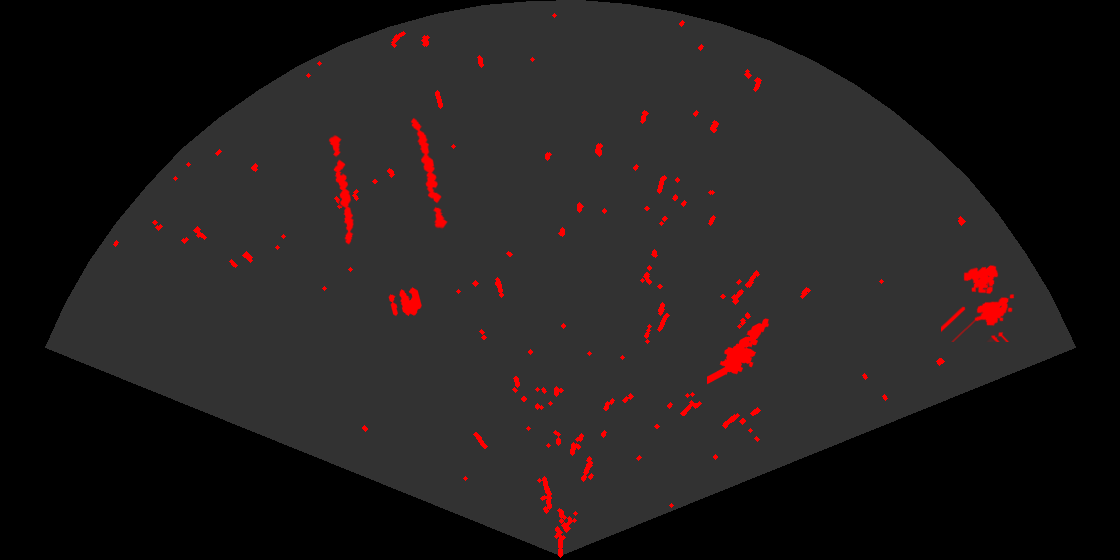ball: (387, 286, 423, 318)
cage: (941, 263, 1016, 342)
chain: (409, 116, 449, 231), (327, 133, 356, 246)
frogman: (707, 317, 771, 386)
